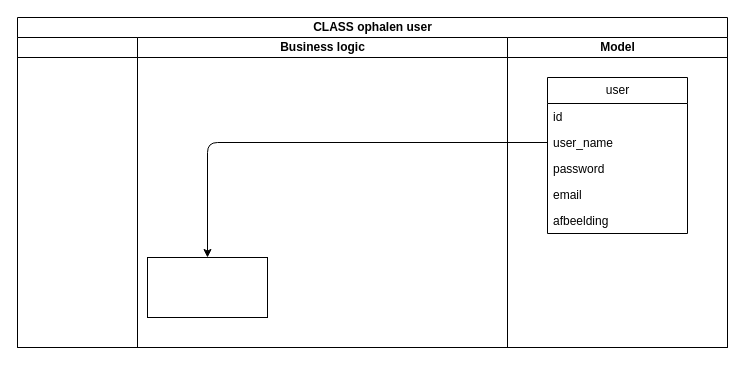
Some shapes in this 745 by 365 pixel diagram are drawn without their labels. Each missing label, with the centre of its shape:
"Controller" goes at (77,192).
"Selecteer user" goes at (207,287).
